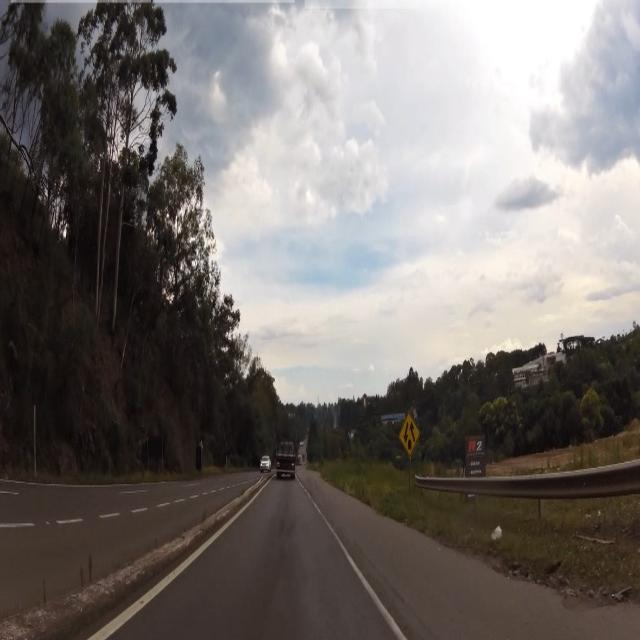A-42b: (400, 413, 422, 459)
